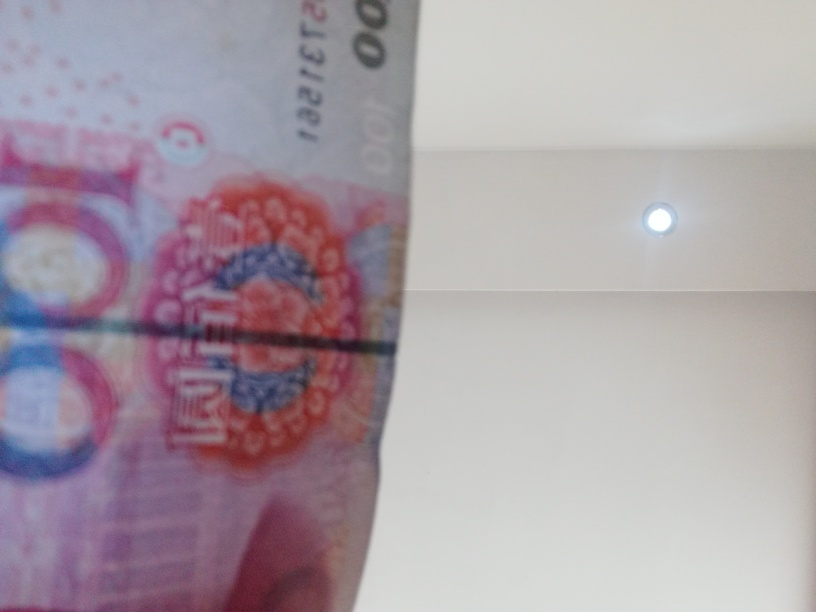rmb: (1, 3, 419, 609)
